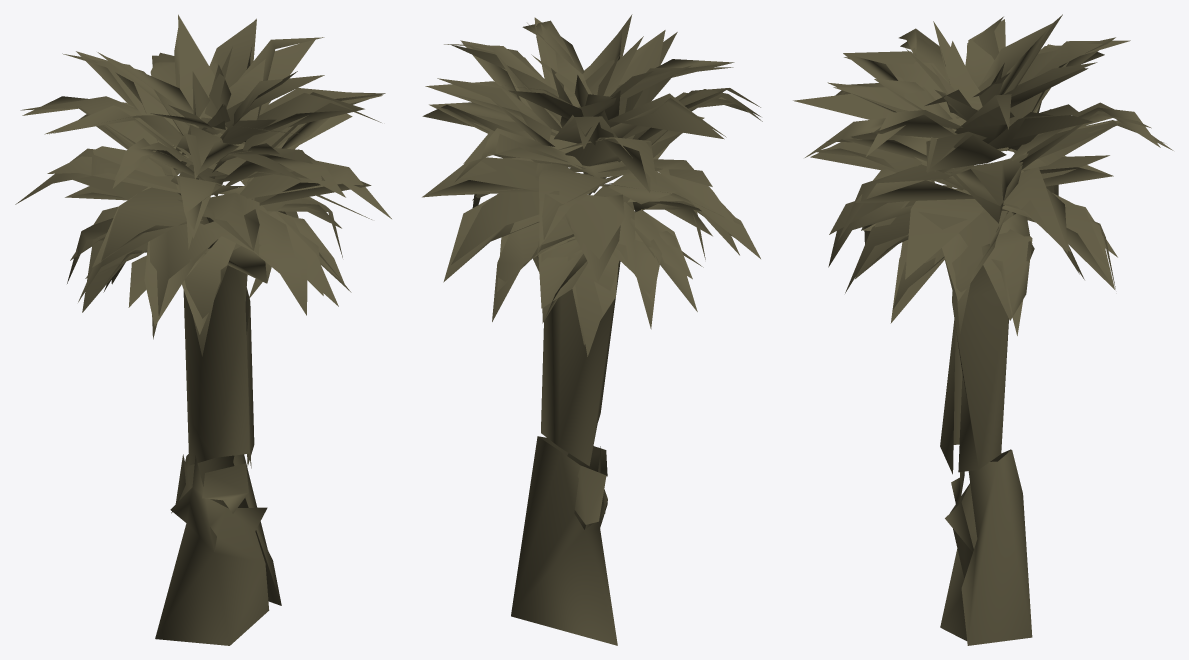
Rendered from tree-quiver-small-lod1.glb.
3 views of the same model, side by side, from view 1: azimuth 30°, elevation 25°; view 2: azimuth 150°, elevation 25°; view 3: azimuth 270°, elevation 25° (orthographic).
Visible parts, largest first — view 1: tree-quiver-small; view 2: tree-quiver-small; view 3: tree-quiver-small.
Part boxes in pixels (box(x1,y1,x2,y2)): tree-quiver-small: box(15, 14, 391, 645); tree-quiver-small: box(422, 14, 762, 645); tree-quiver-small: box(793, 14, 1173, 645).
Bounding box in the file's own units: 1.77 × 2.98 × 1.77.
